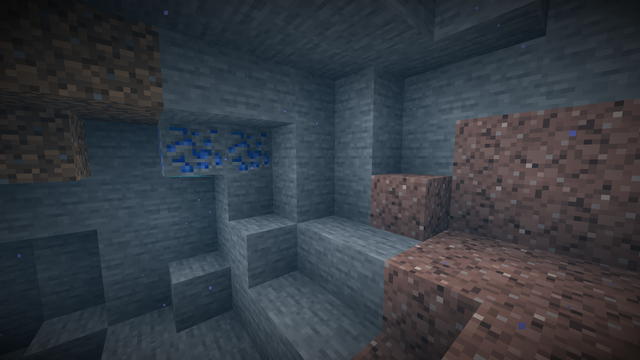lapis: (158, 118, 274, 178)
